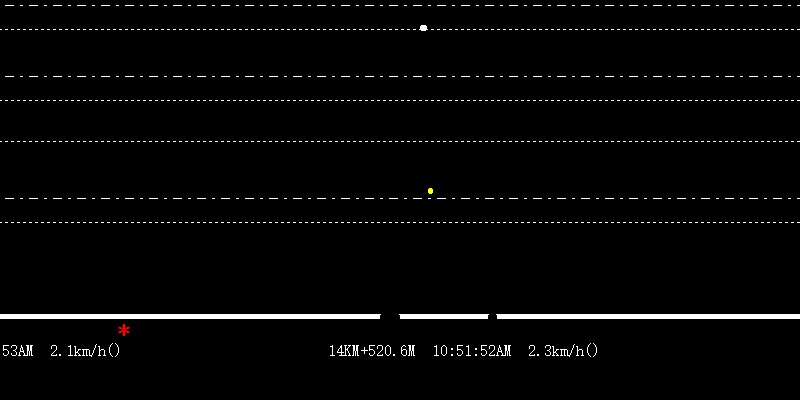face_1: (416, 23, 430, 34)
star: (115, 320, 130, 339)
